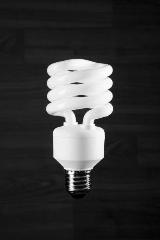lightbulb: (45, 58, 113, 198)
